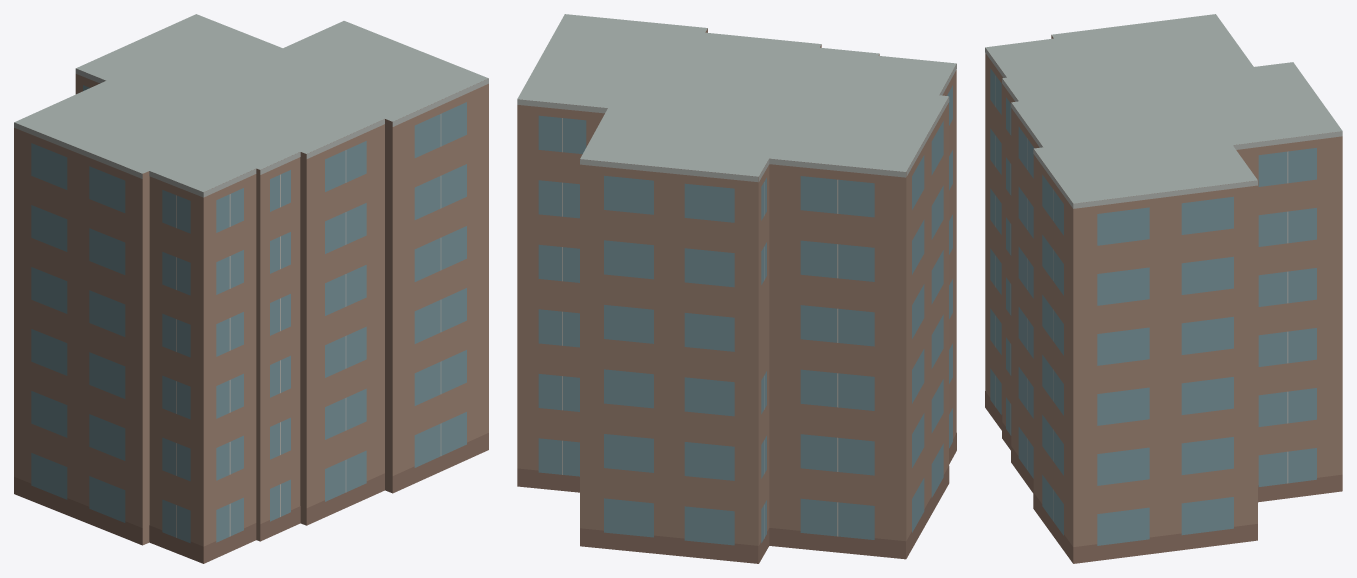
The model's file is survey-upis-33010716.glb.
The picture shows the model from 3 angles, left to right: view 1: azimuth 30°, elevation 25°; view 2: azimuth 150°, elevation 25°; view 3: azimuth 270°, elevation 25°; orthographic projection. The views are drawn at different scales.
Parts seen in each view (by area): view 1: survey-upis-33010716.tmp; view 2: survey-upis-33010716.tmp; view 3: survey-upis-33010716.tmp.
Boxes of the visible parts, x1,y1,x2,y2 form: survey-upis-33010716.tmp: [14, 14, 488, 563]; survey-upis-33010716.tmp: [517, 14, 956, 563]; survey-upis-33010716.tmp: [985, 14, 1342, 563].
Size of the model in its own units: 19.21 by 17 by 15.31.
